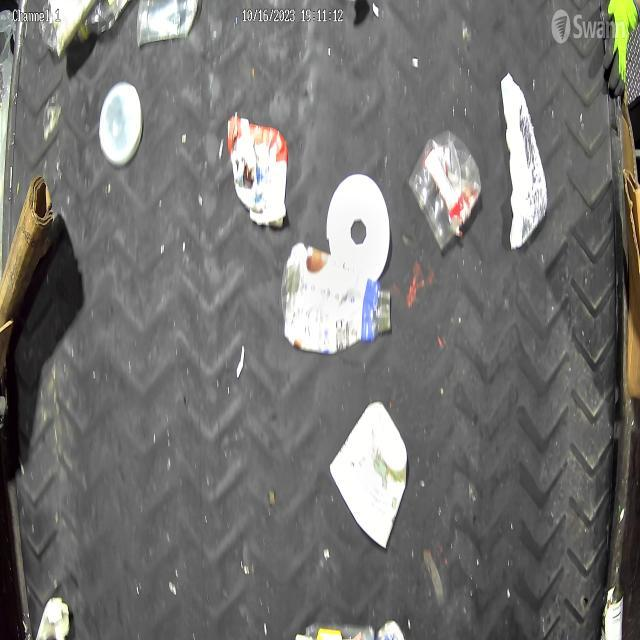can: (598, 584, 626, 640)
